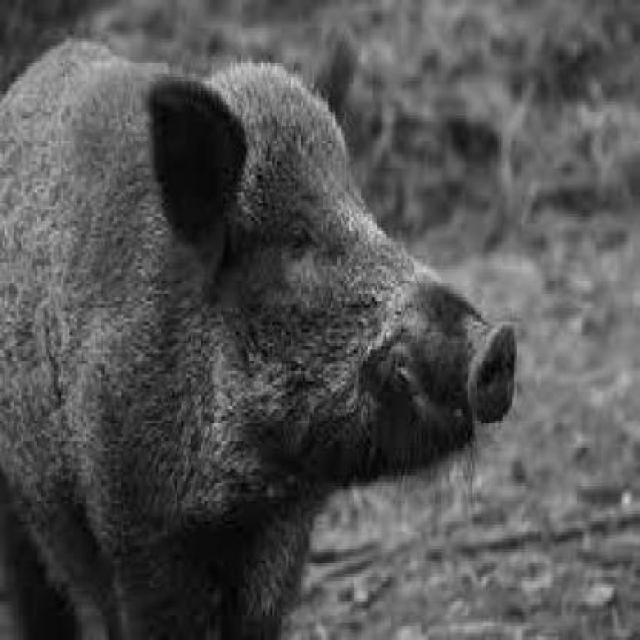wildboar: (0, 20, 528, 640)
